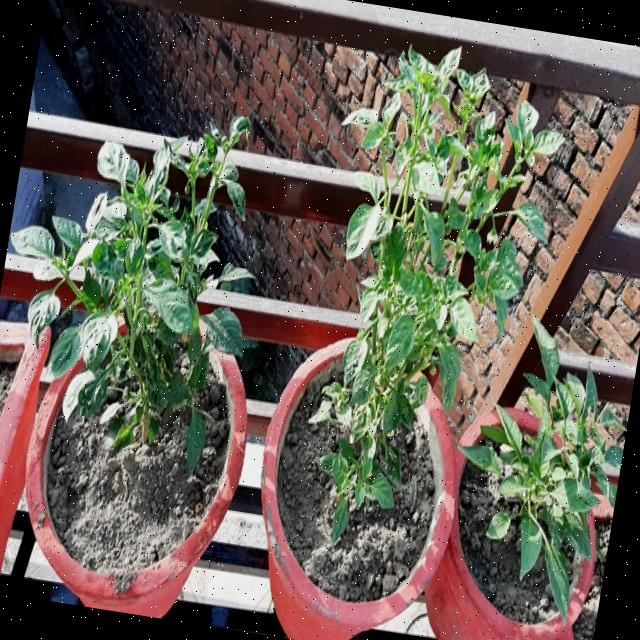plant: (276, 52, 604, 639), (9, 112, 250, 616)
